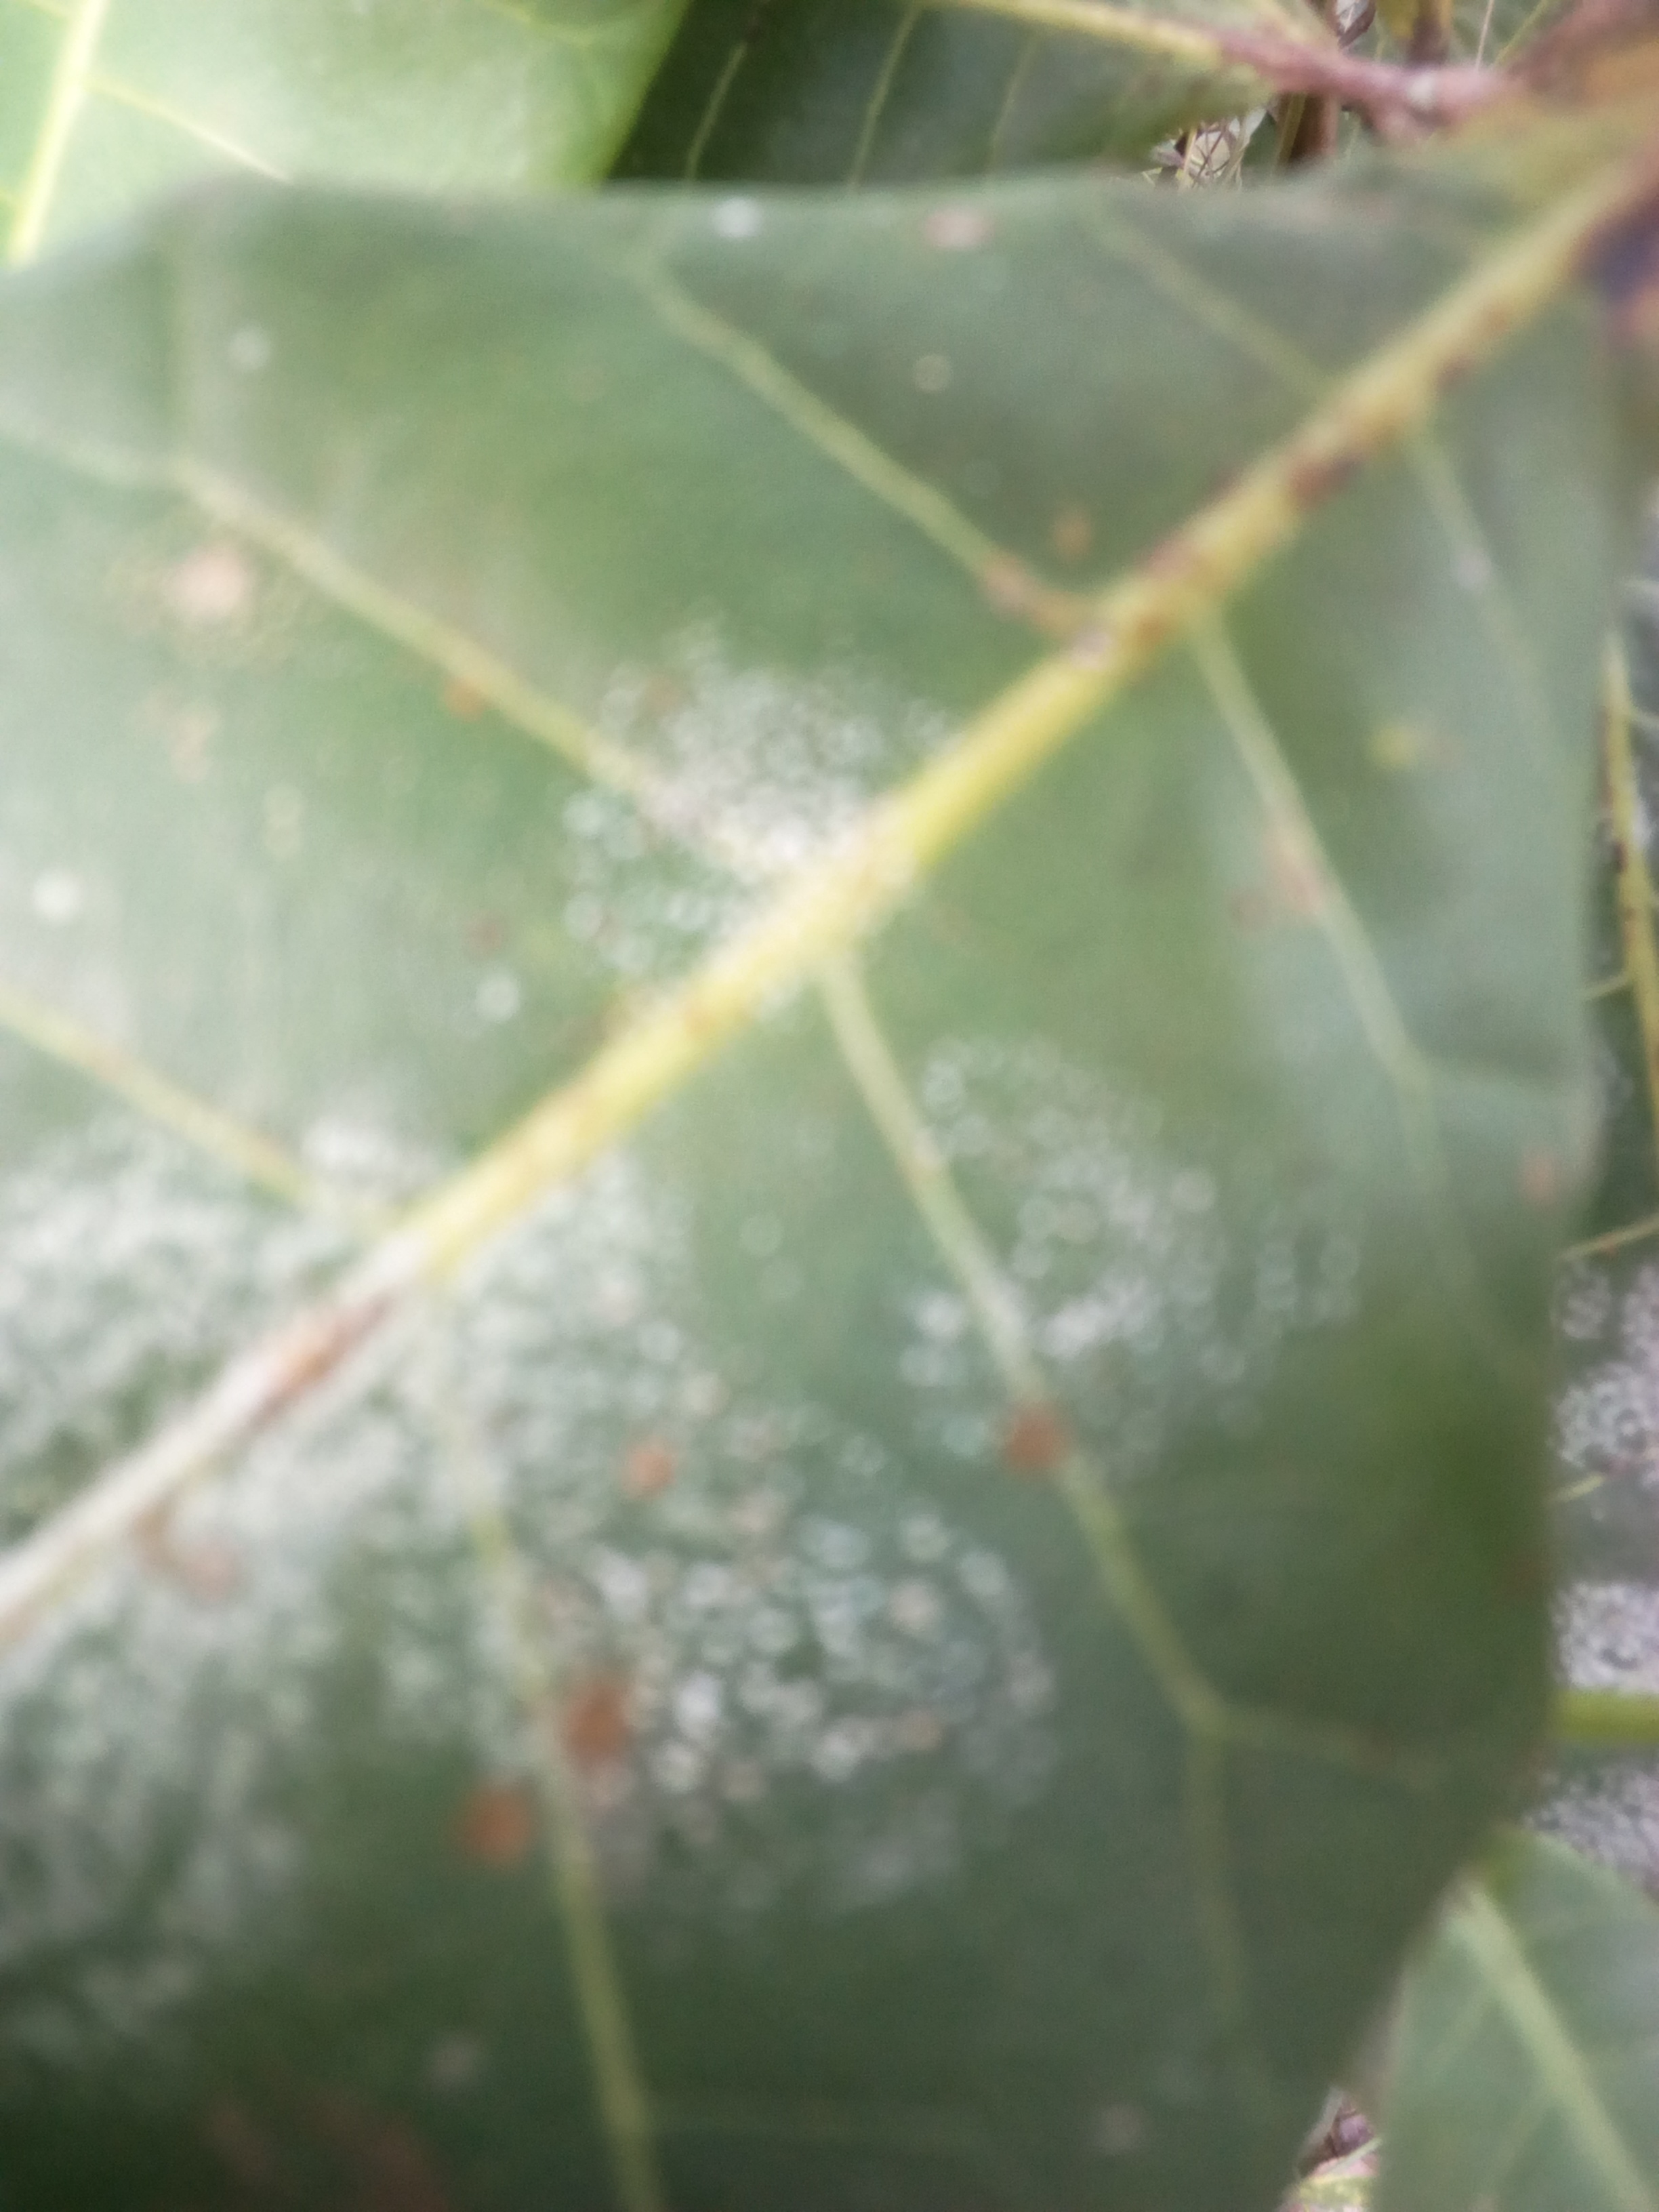Oidium: (0, 597, 1490, 2170)
